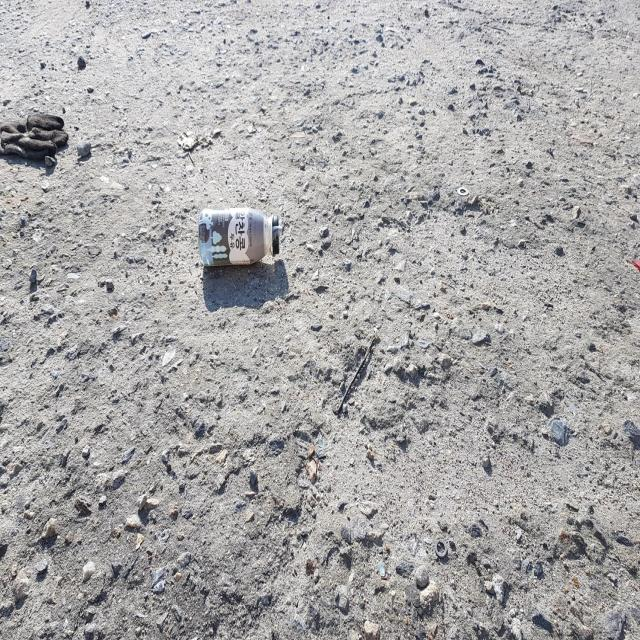glass: (198, 207, 281, 265)
